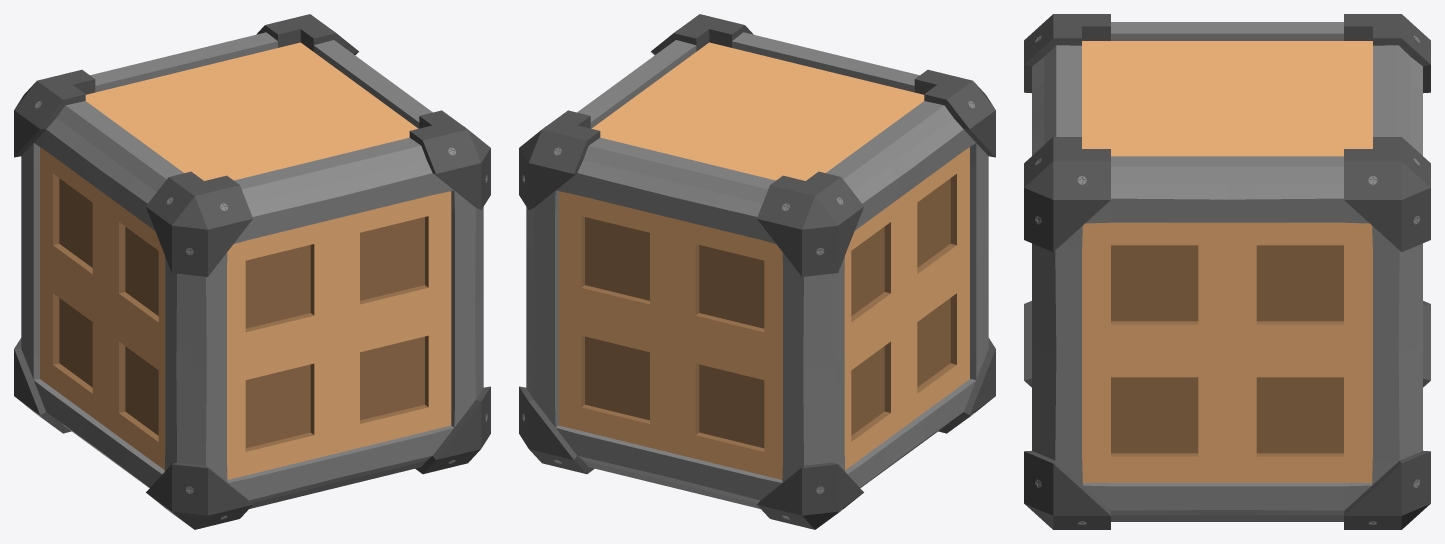
3 renders of one model, left to right at view 1: azimuth 30°, elevation 25°; view 2: azimuth 150°, elevation 25°; view 3: azimuth 270°, elevation 25°, orthographic. The views are drawn at different scales.
Parts seen in each view (by area): view 1: Box 1; view 2: Box 1; view 3: Box 1.
Boxes of the visible parts, x1=… form: Box 1: x1=14, y1=14, x2=490, y2=529; Box 1: x1=519, y1=14, x2=995, y2=529; Box 1: x1=1024, y1=14, x2=1430, y2=529.
Bounding box in the file's own units: 100 × 100 × 100.
